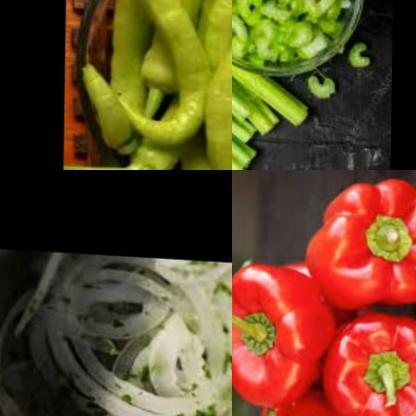bell pepper: (307, 170, 416, 308), (232, 252, 327, 409), (316, 300, 416, 416), (249, 384, 377, 416)
celery: (232, 5, 318, 170), (232, 0, 353, 71), (305, 65, 336, 97), (345, 32, 371, 66)
hot pepper: (81, 0, 232, 170)
onion: (47, 252, 232, 416)
